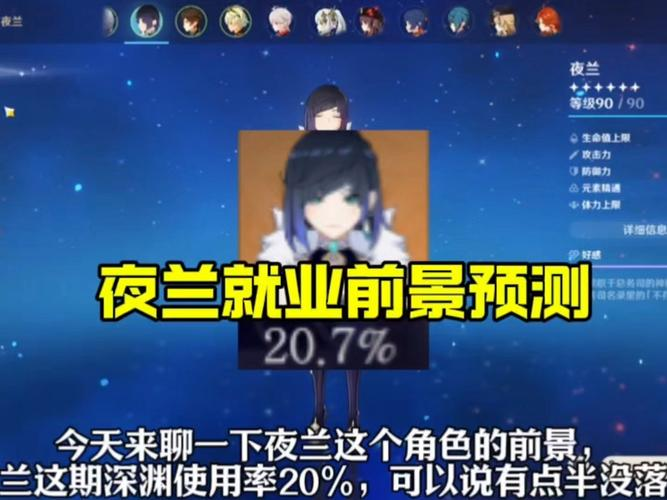夜兰: (246, 132, 415, 262), (298, 83, 353, 130), (132, 5, 167, 42)
